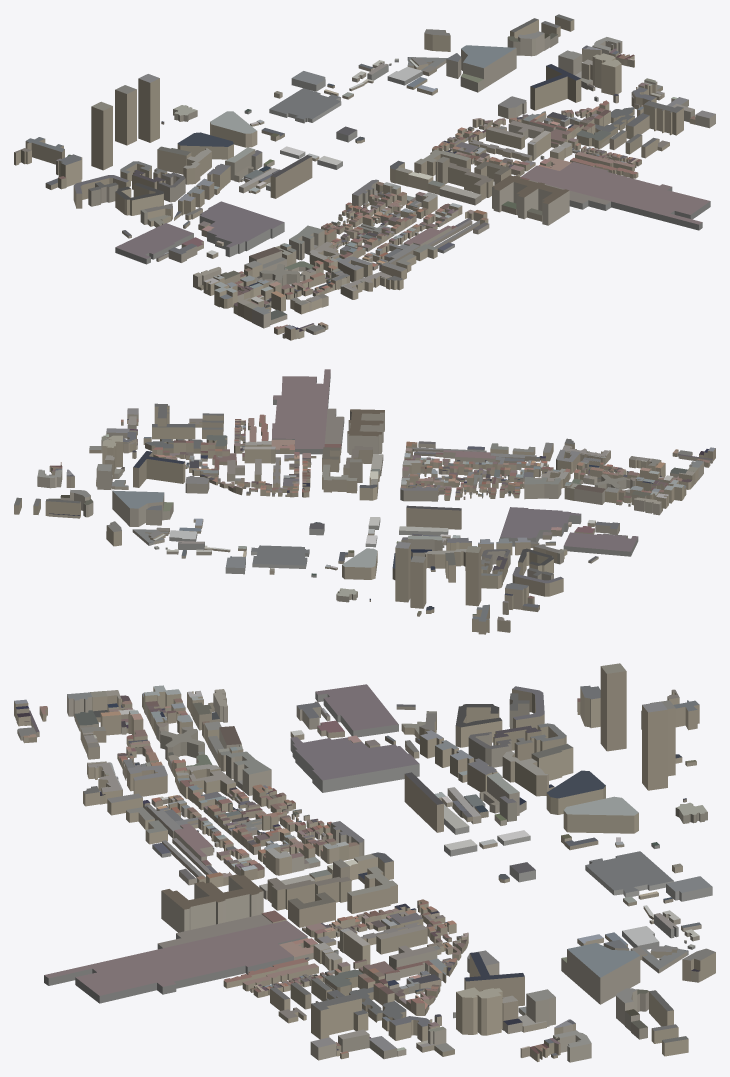
3 renders of one model, top to bottom at view 1: azimuth 30°, elevation 25°; view 2: azimuth 150°, elevation 25°; view 3: azimuth 270°, elevation 25°, orthographic. The views are drawn at different scales.
Parts seen in each view (by area): view 1: tuile; view 2: tuile; view 3: tuile.
Part boxes in pixels (bbox=[...]): tuile: bbox=[14, 14, 715, 340]; tuile: bbox=[14, 369, 715, 634]; tuile: bbox=[14, 663, 715, 1062].
Size of the model in its own units: 1056 by 107 by 843.
